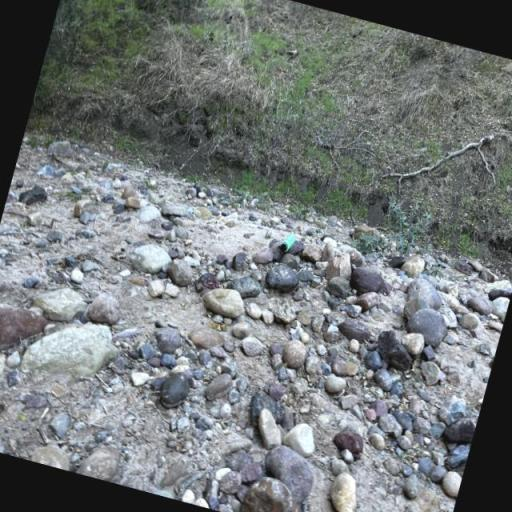bottle: (276, 232, 296, 254)
